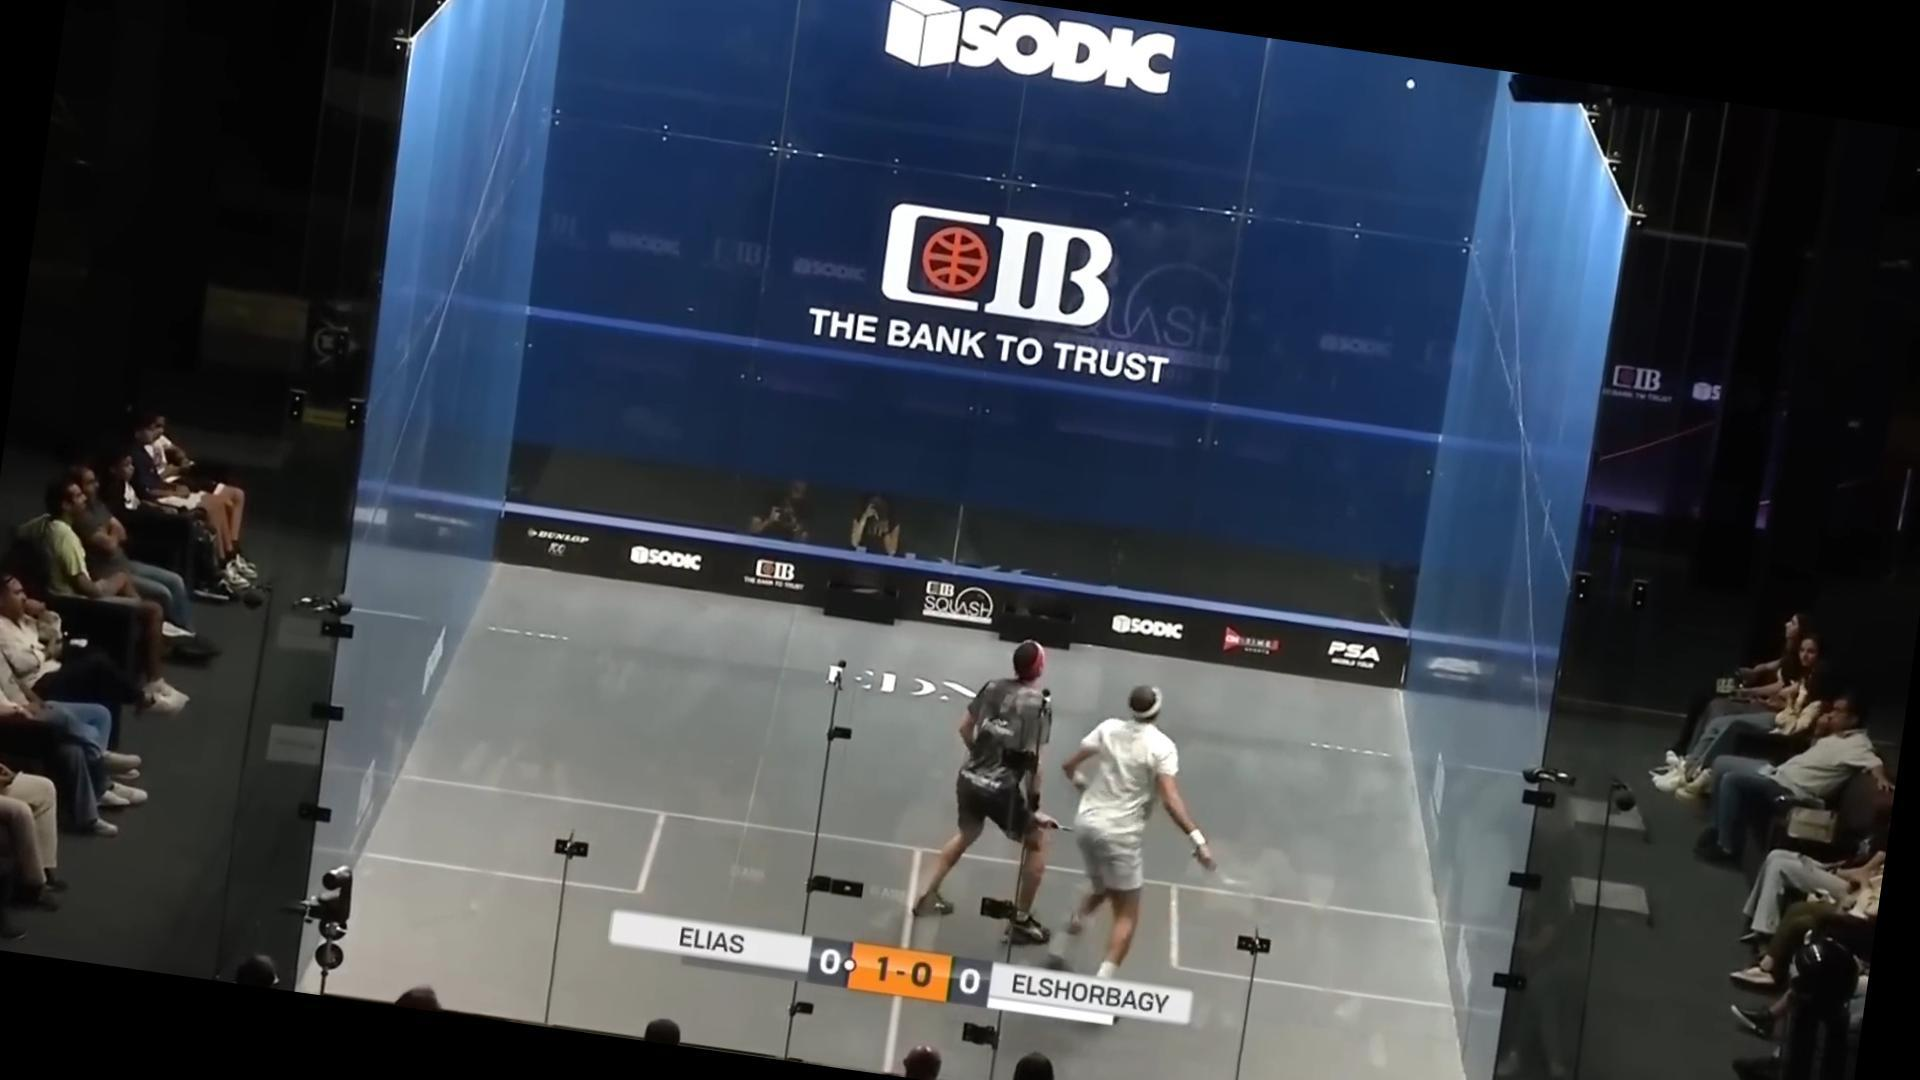Squash-Ball: (1393, 65, 1424, 98)
